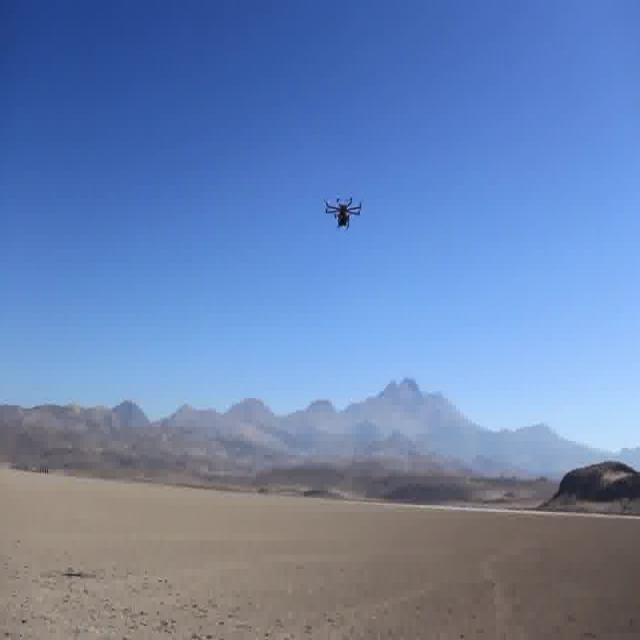drone: (321, 180, 368, 243)
